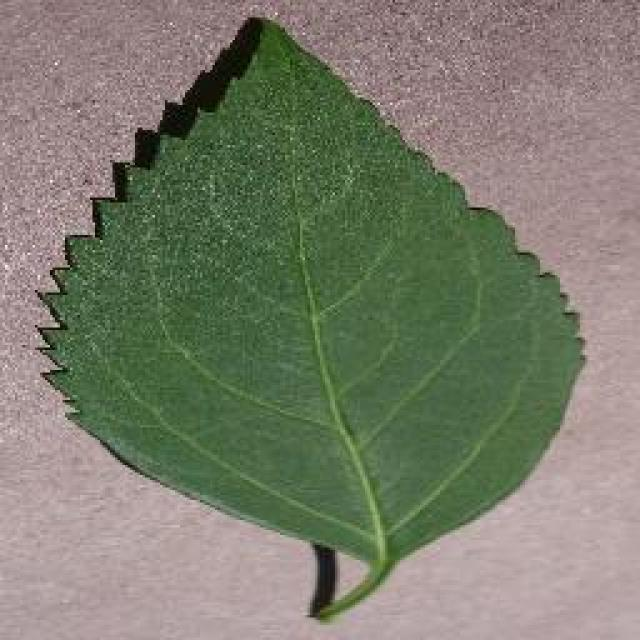Cherry___healthy: (28, 7, 592, 635)
